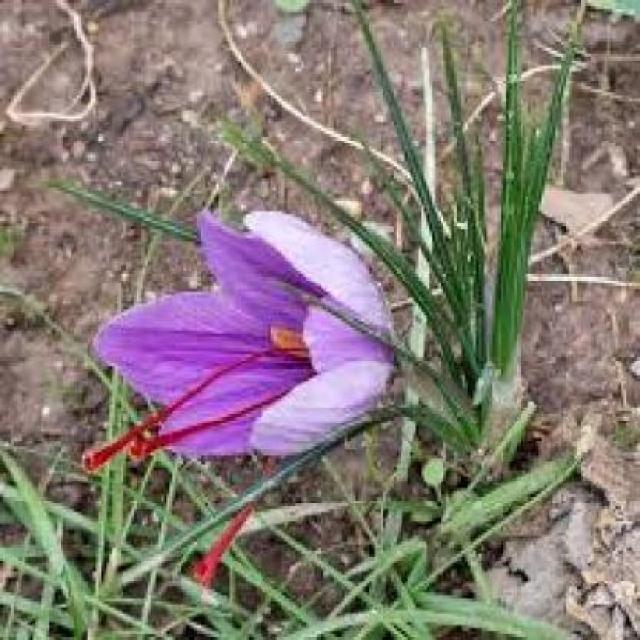saffron open: (94, 211, 398, 459)
